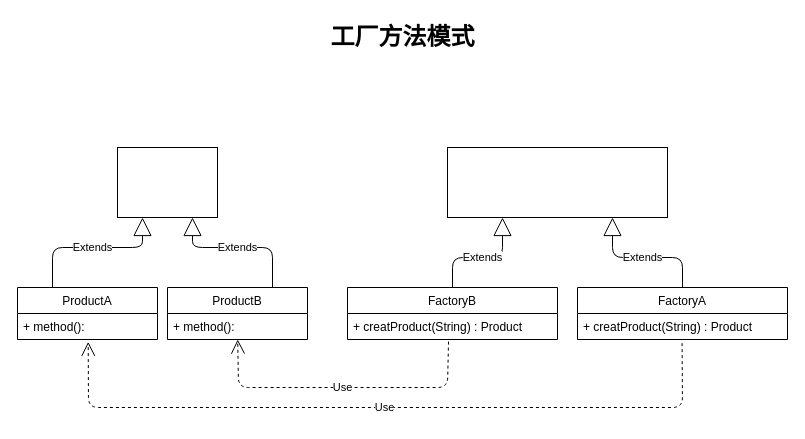
Some shapes in this 805 by 439 pixel diagram are drawn without their labels. The shapes that lost their labels are listed below. From the top down, each one's centre as x and y in pixels, then its label:
point (167, 182): «abstract» Product + method():
point (557, 182): «abstract» Factory + creatProduct(String) : Product
